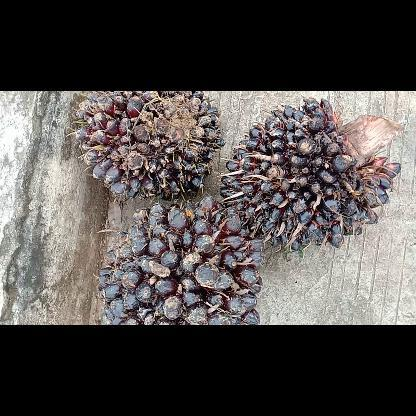TBS mentah: (218, 94, 406, 252), (97, 198, 267, 324), (70, 91, 226, 204)
